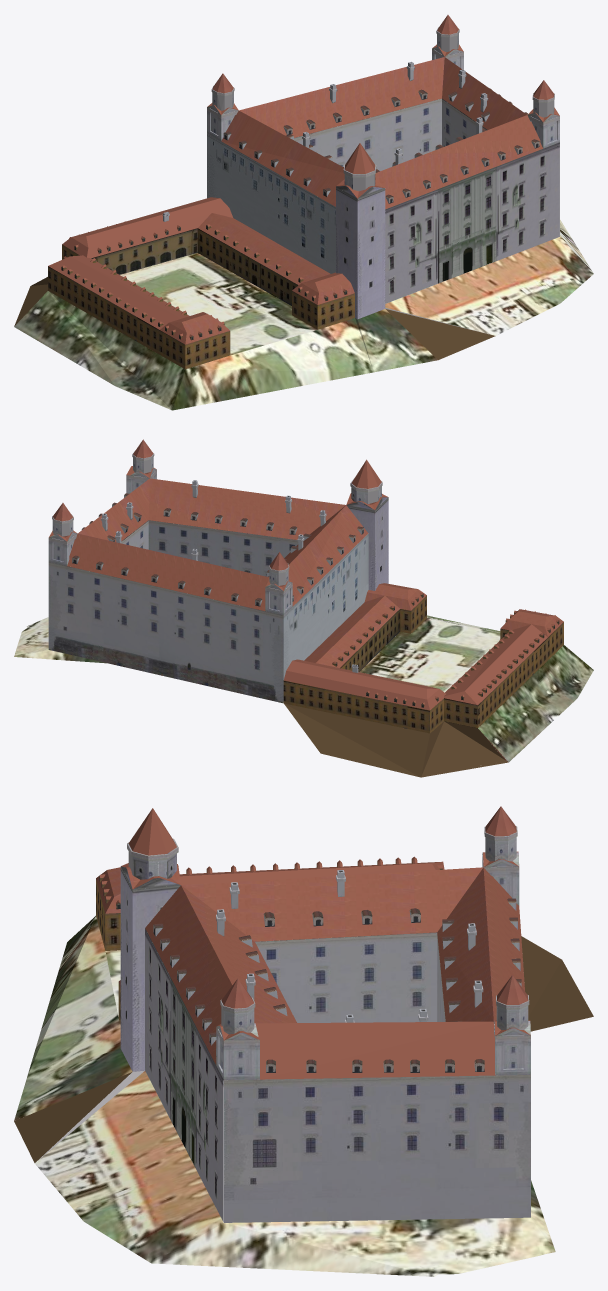
File: blava.glb
3 views of the same model, one above another, from view 1: azimuth 30°, elevation 25°; view 2: azimuth 150°, elevation 25°; view 3: azimuth 270°, elevation 25° (orthographic). The views are drawn at different scales.
Visible parts, largest first — view 1: Mesh_1; view 2: Mesh_1; view 3: Mesh_1.
Boxes of the visible parts, x1,y1,x2,y2 form: Mesh_1: [14, 15, 593, 410]; Mesh_1: [14, 439, 593, 777]; Mesh_1: [14, 806, 593, 1276].
Bounding box in the file's own units: 2.52 × 0.9 × 1.6.
Materials: 19 (19 with a texture image).
